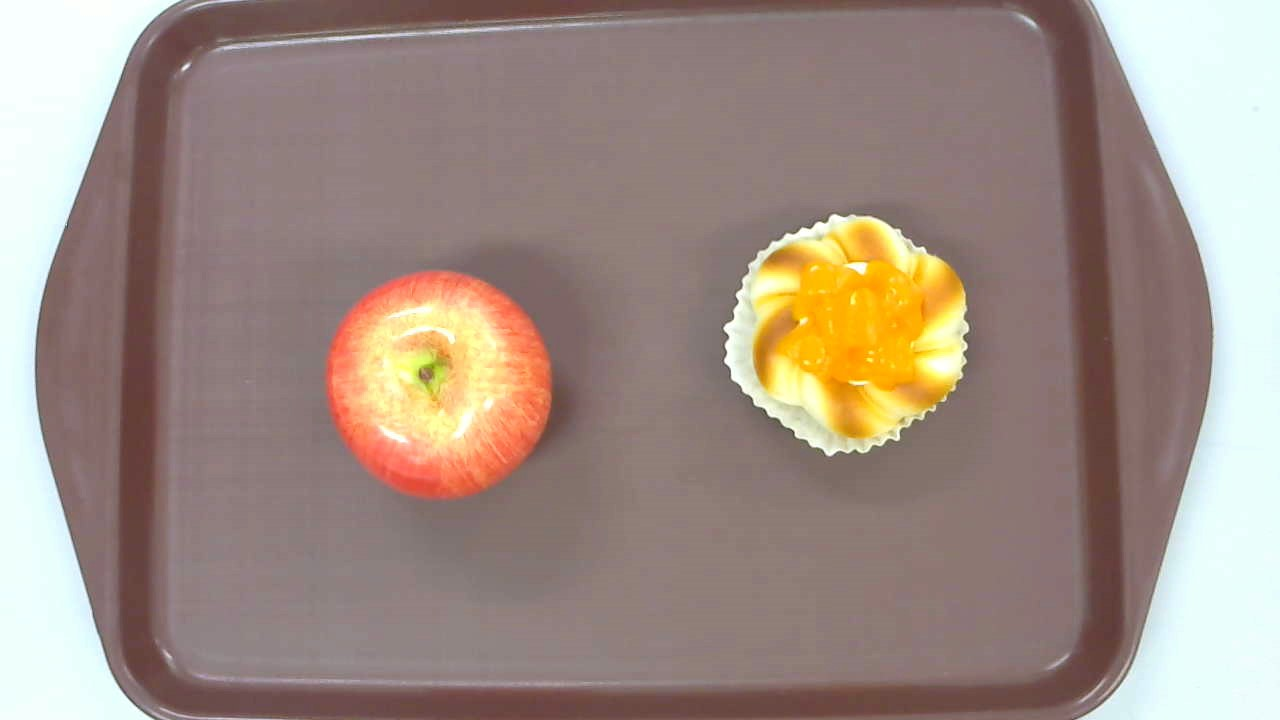mango tart: (720, 213, 970, 456)
red apple: (325, 269, 552, 499)
